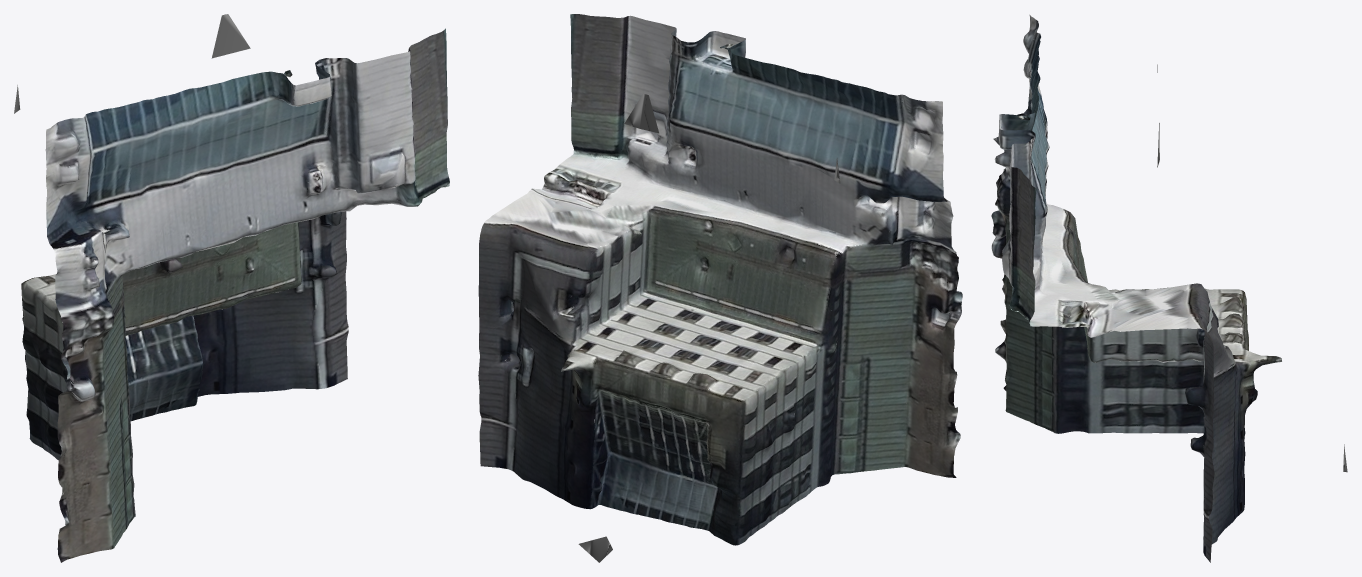
The model's file is Tile_+029_+018_L21_0021000.fbx.
The picture shows the model from 3 angles, left to right: view 1: azimuth 30°, elevation 25°; view 2: azimuth 150°, elevation 25°; view 3: azimuth 270°, elevation 25°; orthographic projection. The views are drawn at different scales.
Visible parts, largest first — view 1: DefaultName; view 2: DefaultName; view 3: DefaultName.
Part boxes in pixels (x1,y1,x2,y2): DefaultName: (14,14,449,562); DefaultName: (478,14,962,562); DefaultName: (991,14,1347,562).
Size of the model in its own units: 31.38 by 31.38 by 27.05.
Materials: 1 (1 with a texture image).
